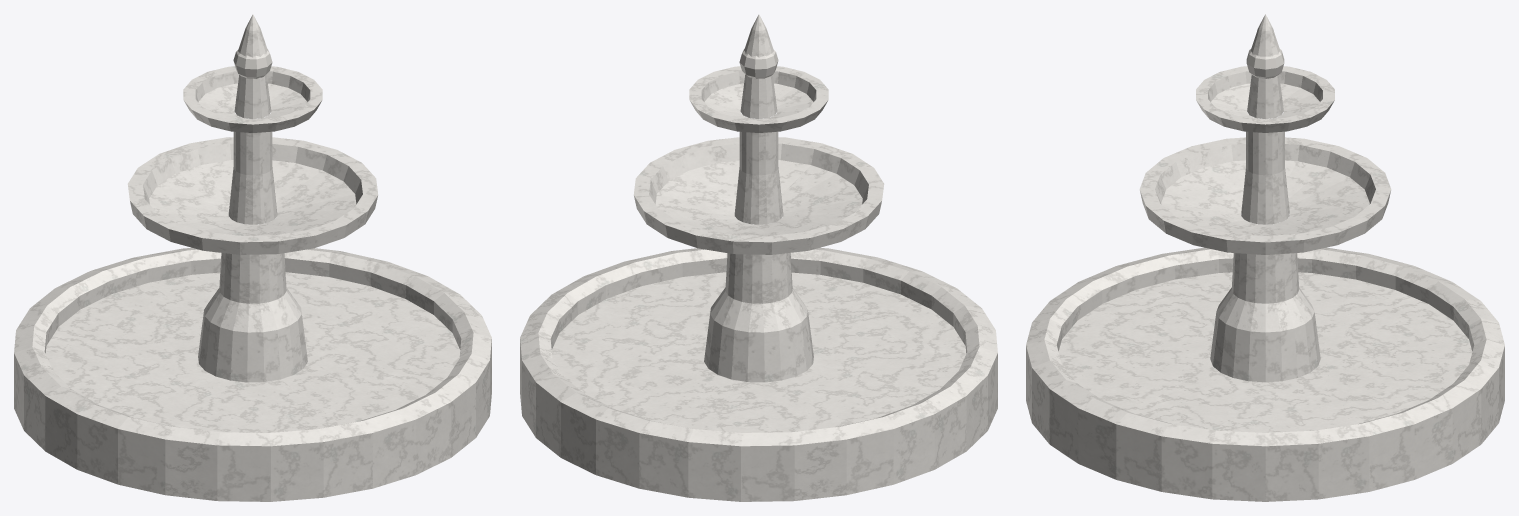
File: SM_fountain.glb
3 views of the same model, side by side, from view 1: azimuth 30°, elevation 25°; view 2: azimuth 150°, elevation 25°; view 3: azimuth 270°, elevation 25° (orthographic).
Visible parts, largest first — view 1: SM_fountain; view 2: SM_fountain; view 3: SM_fountain.
Boxes of the visible parts, bbox=[...] form: SM_fountain: bbox=[14, 14, 491, 501]; SM_fountain: bbox=[520, 14, 997, 501]; SM_fountain: bbox=[1026, 14, 1504, 501].
Bounding box in the file's own units: 7.8 × 6.95 × 7.8.
Materials: 1 (1 with a texture image).
